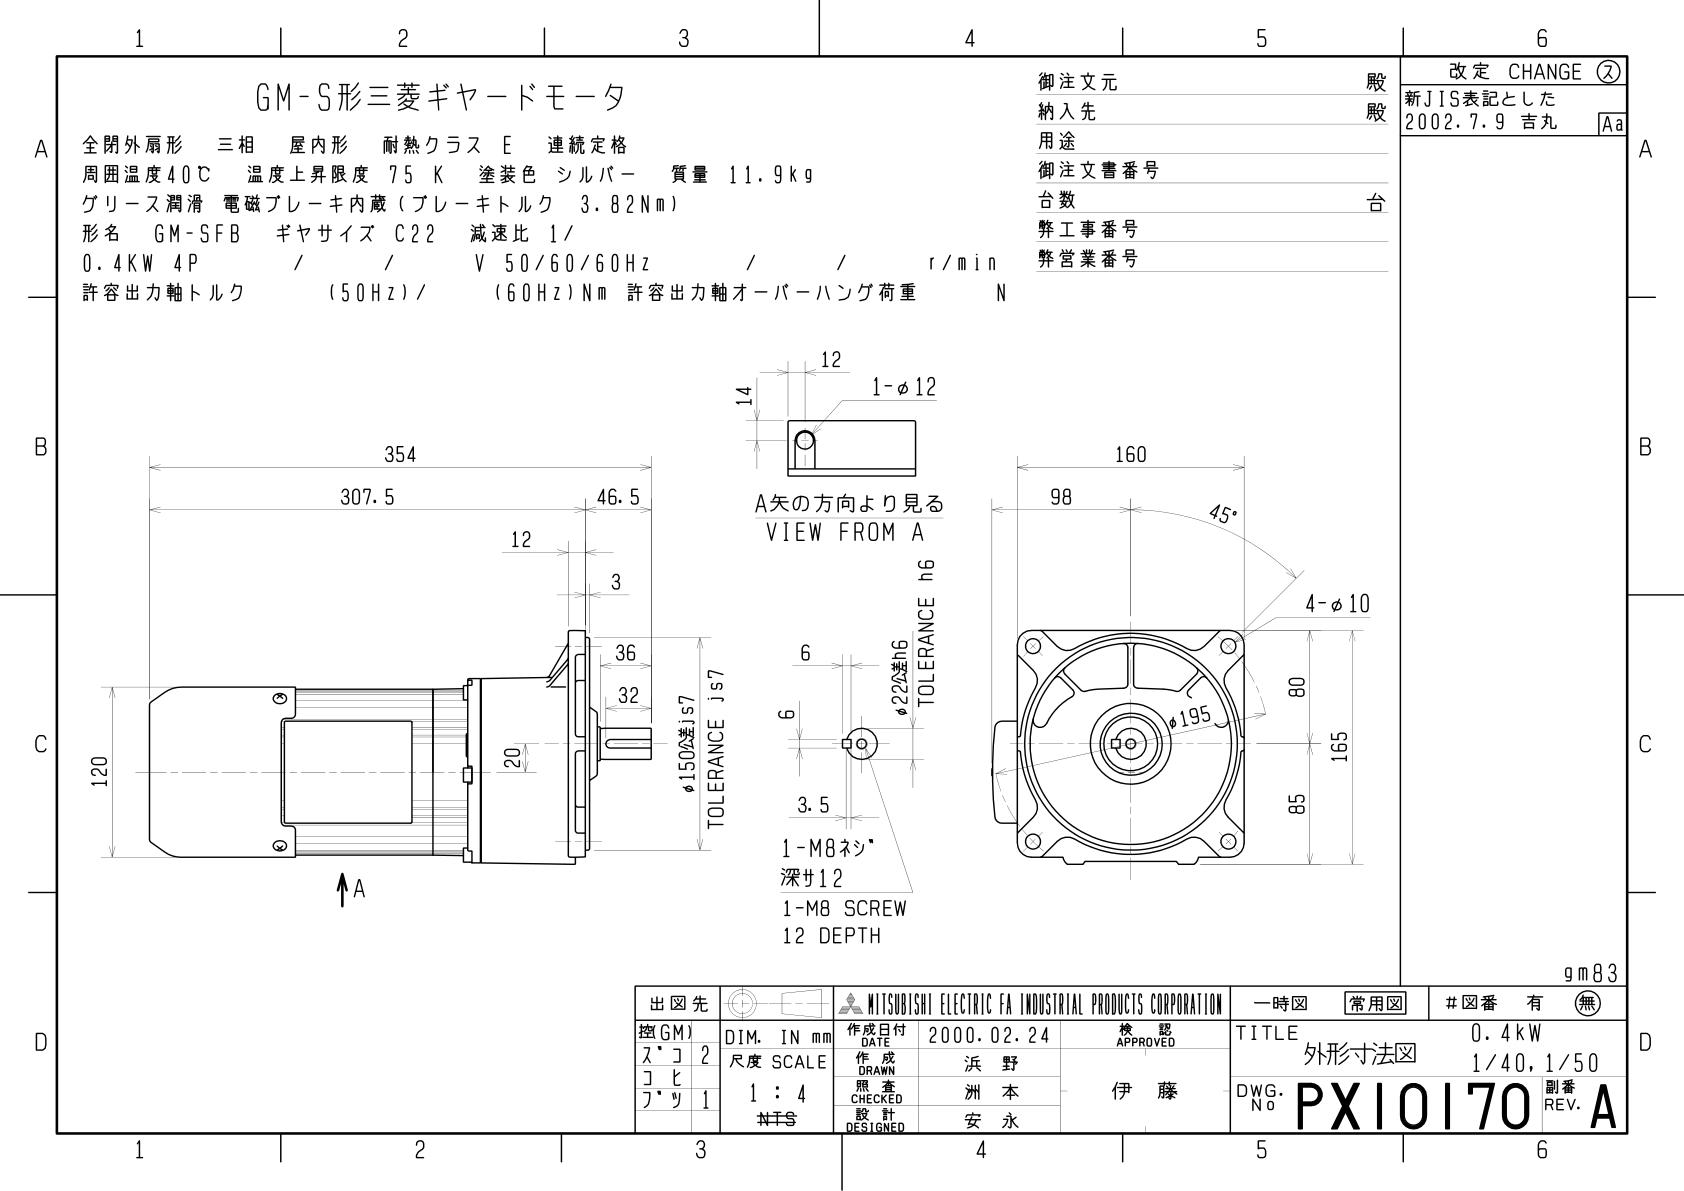GM_S_屋内＿三相_フランジ: (67, 336, 1385, 959)
